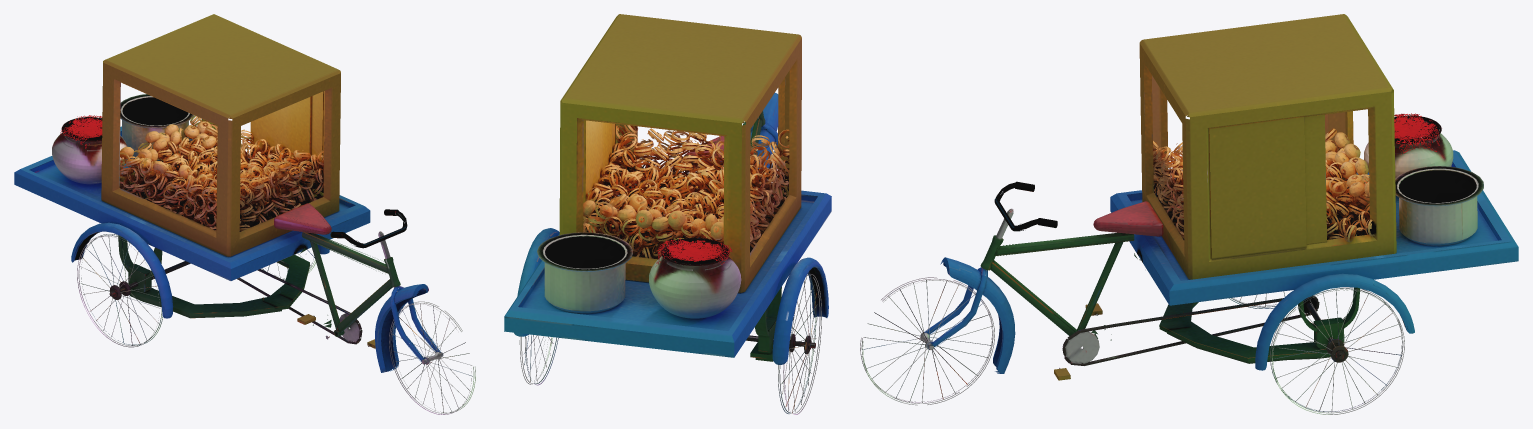
File: gdk_panipuri_cart_mobile.glb
3 renders of one model, left to right at view 1: azimuth 30°, elevation 25°; view 2: azimuth 150°, elevation 25°; view 3: azimuth 270°, elevation 25°, orthographic. The views are drawn at different scales.
Parts seen in each view (by area): view 1: fuchka_van_0.009, fuchka, fuchka_van_0.010, fuchka_van_0.012, fuchka_van_0.018, fuchka_van_0.001, fuchka_van_0.013, fuchka_van_0.002, fuchka_van_0.003, fuchka_van_0.004, fuchka_van_0.017, fuchka_van_0.005 (+2 smaller); view 2: fuchka_van_0.009, fuchka, fuchka_van_0.010, fuchka_van_0.012, fuchka_van_0.013, fuchka_van_0.001, fuchka_van_0.018, fuchka_van_0.002, fuchka_van_0.003, fuchka_van_0.017, fuchka_van_0.004, fuchka_van_0.005 (+2 smaller); view 3: fuchka_van_0.009, fuchka, fuchka_van_0.010, fuchka_van_0.012, fuchka_van_0.018, fuchka_van_0.013, fuchka_van_0.017, fuchka_van_0.001, fuchka_van_0.019, fuchka_van_0.003, fuchka_van_0.002, fuchka_van_0.004.
Boxes of the visible parts, left/top/right/bottom form: fuchka_van_0.009: left=70, top=14, right=338, bottom=256; fuchka: left=101, top=59, right=424, bottom=364; fuchka_van_0.010: left=14, top=115, right=475, bottom=414; fuchka_van_0.012: left=52, top=117, right=440, bottom=372; fuchka_van_0.018: left=71, top=225, right=472, bottom=412; fuchka_van_0.001: left=125, top=119, right=323, bottom=208; fuchka_van_0.013: left=70, top=94, right=322, bottom=216; fuchka_van_0.002: left=119, top=124, right=323, bottom=211; fuchka_van_0.003: left=119, top=136, right=323, bottom=222; fuchka_van_0.004: left=119, top=142, right=323, bottom=227; fuchka_van_0.017: left=120, top=121, right=439, bottom=359; fuchka_van_0.005: left=135, top=145, right=323, bottom=227; fuchka_van_0.009: left=559, top=14, right=798, bottom=292; fuchka: left=560, top=14, right=815, bottom=353; fuchka_van_0.010: left=504, top=122, right=831, bottom=414; fuchka_van_0.012: left=517, top=92, right=827, bottom=361; fuchka_van_0.013: left=537, top=145, right=788, bottom=313; fuchka_van_0.001: left=587, top=125, right=789, bottom=242; fuchka_van_0.018: left=514, top=118, right=828, bottom=385; fuchka_van_0.002: left=583, top=125, right=789, bottom=256; fuchka_van_0.003: left=583, top=139, right=789, bottom=258; fuchka_van_0.017: left=583, top=138, right=777, bottom=239; fuchka_van_0.004: left=591, top=155, right=789, bottom=256; fuchka_van_0.005: left=583, top=173, right=788, bottom=257; fuchka_van_0.009: left=1143, top=14, right=1431, bottom=279; fuchka: left=929, top=14, right=1393, bottom=368; fuchka_van_0.010: left=860, top=113, right=1518, bottom=405; fuchka_van_0.012: left=920, top=115, right=1453, bottom=380; fuchka_van_0.018: left=862, top=232, right=1414, bottom=414; fuchka_van_0.013: left=1153, top=116, right=1483, bottom=245; fuchka_van_0.017: left=956, top=132, right=1369, bottom=324; fuchka_van_0.001: left=1153, top=140, right=1369, bottom=242; fuchka_van_0.019: left=1065, top=117, right=1483, bottom=361; fuchka_van_0.003: left=1153, top=158, right=1370, bottom=237; fuchka_van_0.002: left=1153, top=147, right=1369, bottom=235; fuchka_van_0.004: left=1153, top=169, right=1374, bottom=236.
Size of the model in its own units: 306 by 325 by 639.
Materials: 1 (1 with a texture image).
